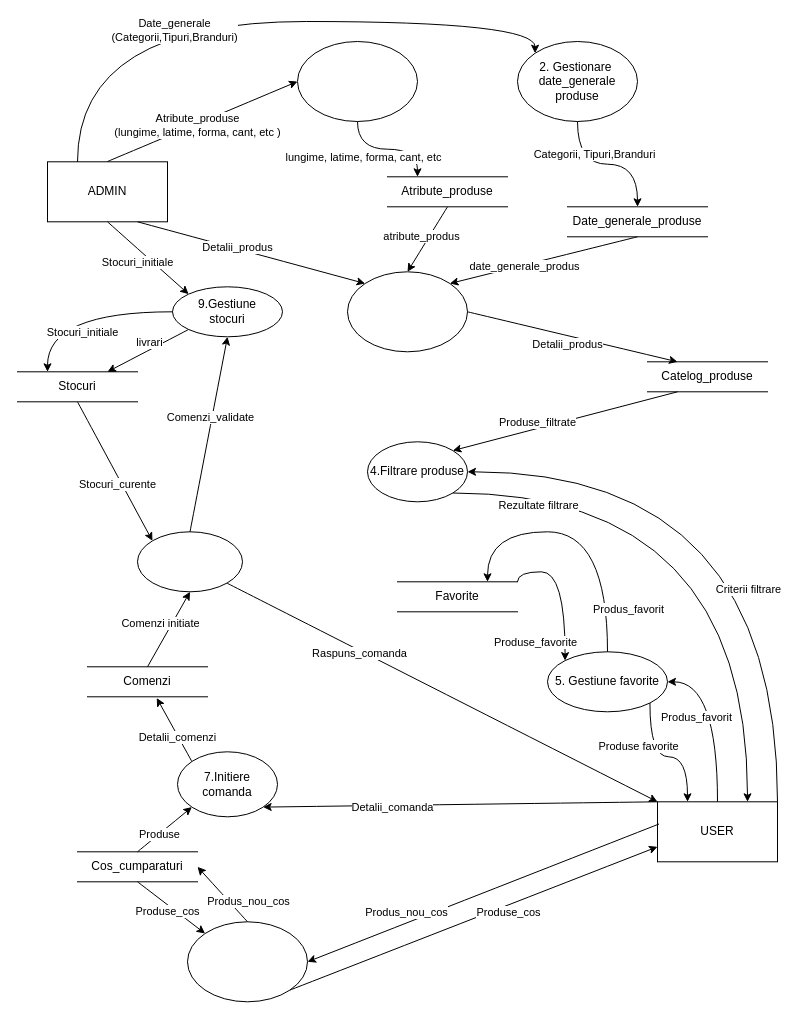
Some shapes in this 798 by 1020 pixel diagram are drawn without their labels. The shapes that lost their labels are listed below. From the top down, each one's centre as x and y in pixels, then its label:
point 357,81: 1. Gestionare atribute_produse
point 407,311: 3. Gestionare catalog de produse
point 189,561: 8.Gestiune comenzi
point 247,961: 6. Gestiune cos
